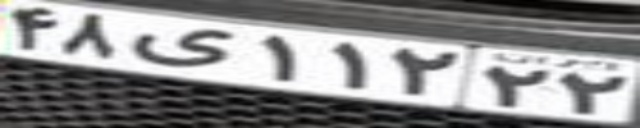1: (330, 41, 366, 89), (260, 35, 294, 81)
2: (557, 71, 626, 113), (480, 64, 546, 105), (397, 49, 456, 94)
4: (12, 6, 53, 49)
8: (61, 14, 113, 56)
ye: (133, 28, 239, 67)
